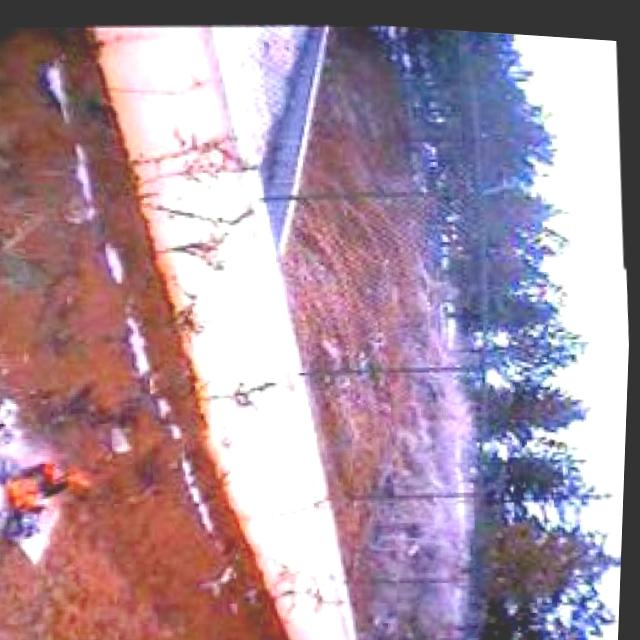Fire: (5, 444, 102, 538)
